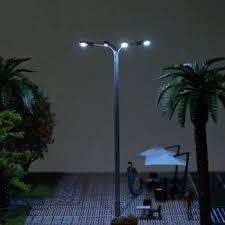Animal: (79, 29, 141, 219)
